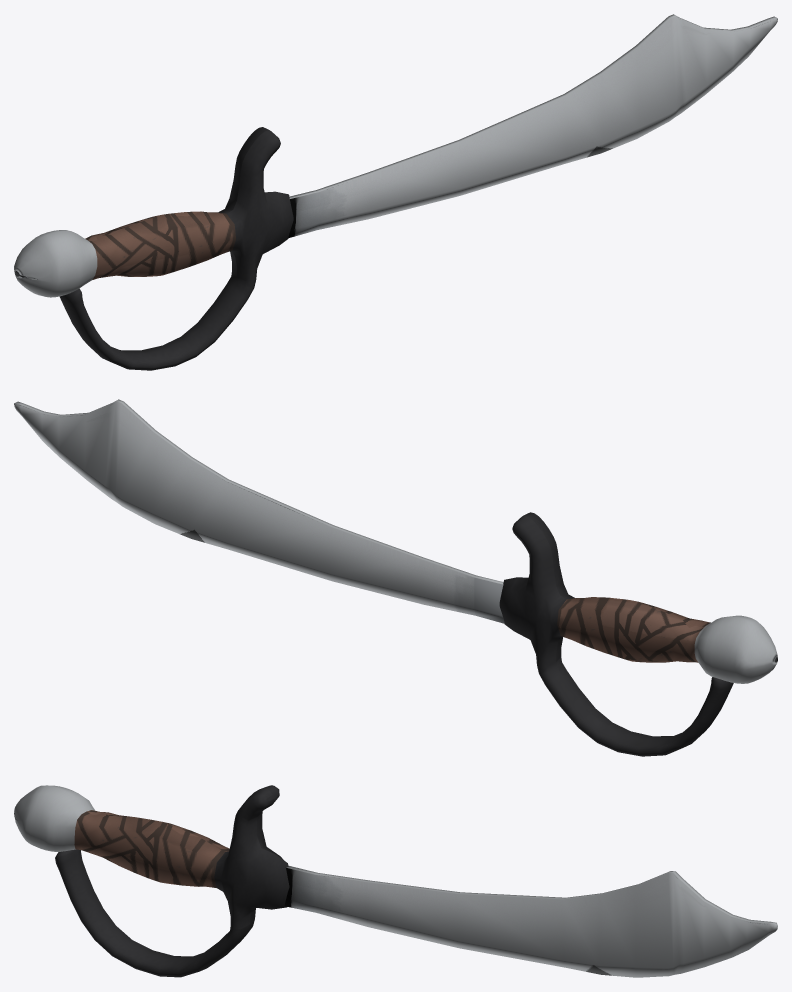
Rendered from pirates-sword.FBX.
The picture shows the model from 3 angles, top to bottom: view 1: azimuth 30°, elevation 25°; view 2: azimuth 150°, elevation 25°; view 3: azimuth 330°, elevation 25°; orthographic projection.
Parts seen in each view (by area): view 1: Cube2_default; view 2: Cube2_default; view 3: Cube2_default.
Part boxes in pixels (x1,y1,x2,y2): Cube2_default: (14,14,777,370); Cube2_default: (14,399,777,756); Cube2_default: (14,785,777,977).
Bounding box in the file's own units: 174 × 48.82 × 12.68.
1 material, 1 textured.
